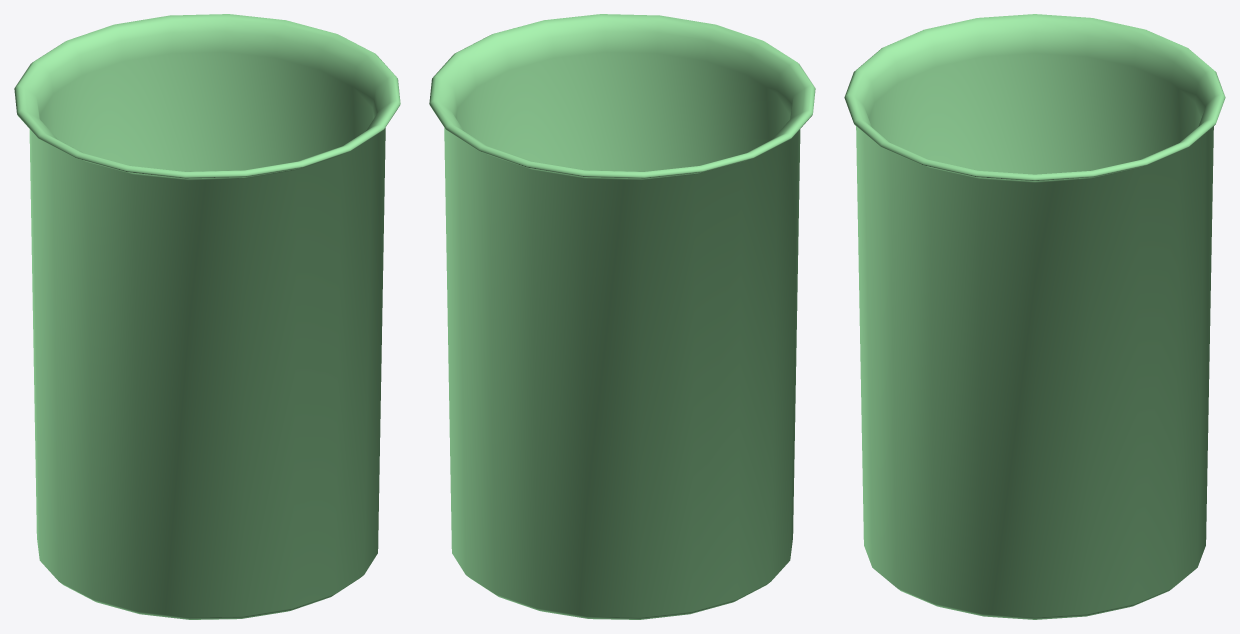
The model's file is Surgical_beaker.fbx.
3 views of the same model, side by side, from view 1: azimuth 30°, elevation 25°; view 2: azimuth 150°, elevation 25°; view 3: azimuth 270°, elevation 25° (orthographic).
Parts seen in each view (by area): view 1: surgical_beaker; view 2: surgical_beaker; view 3: surgical_beaker.
Part boxes in pixels (x1,y1,x2,y2): surgical_beaker: [14, 14, 400, 619]; surgical_beaker: [429, 14, 815, 619]; surgical_beaker: [844, 14, 1225, 619].
Size of the model in its own units: 0.2626 by 0.3438 by 0.2569.
